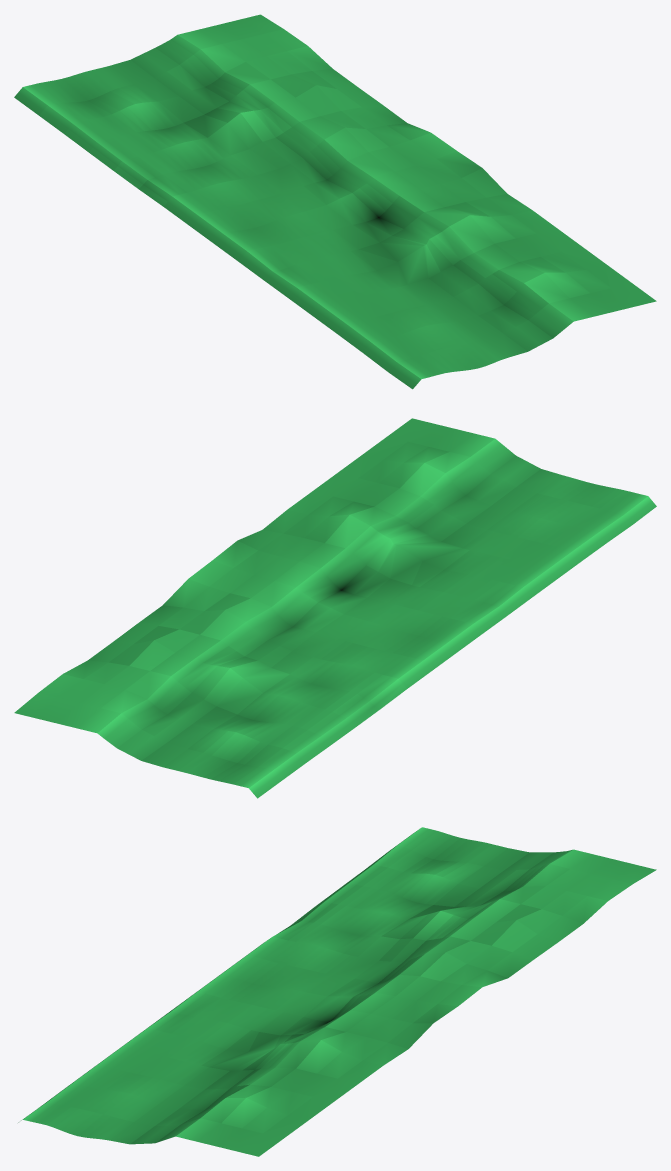
The model's file is SM_Shore.fbx.
3 renders of one model, top to bottom at view 1: azimuth 30°, elevation 25°; view 2: azimuth 150°, elevation 25°; view 3: azimuth 330°, elevation 25°, orthographic.
Visible parts, largest first — view 1: SM_Shore; view 2: SM_Shore; view 3: SM_Shore.
Part boxes in pixels (left/top/right/bottom): SM_Shore: left=14, top=14, right=656, bottom=389; SM_Shore: left=14, top=418, right=656, bottom=798; SM_Shore: left=18, top=827, right=656, bottom=1156.
Bounding box in the file's own units: 15.34 × 43.34 × 2.39.
